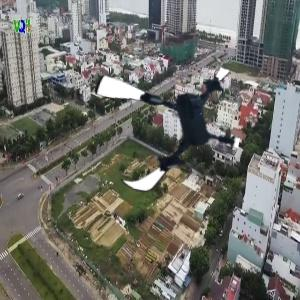drone: (90, 45, 244, 199)
